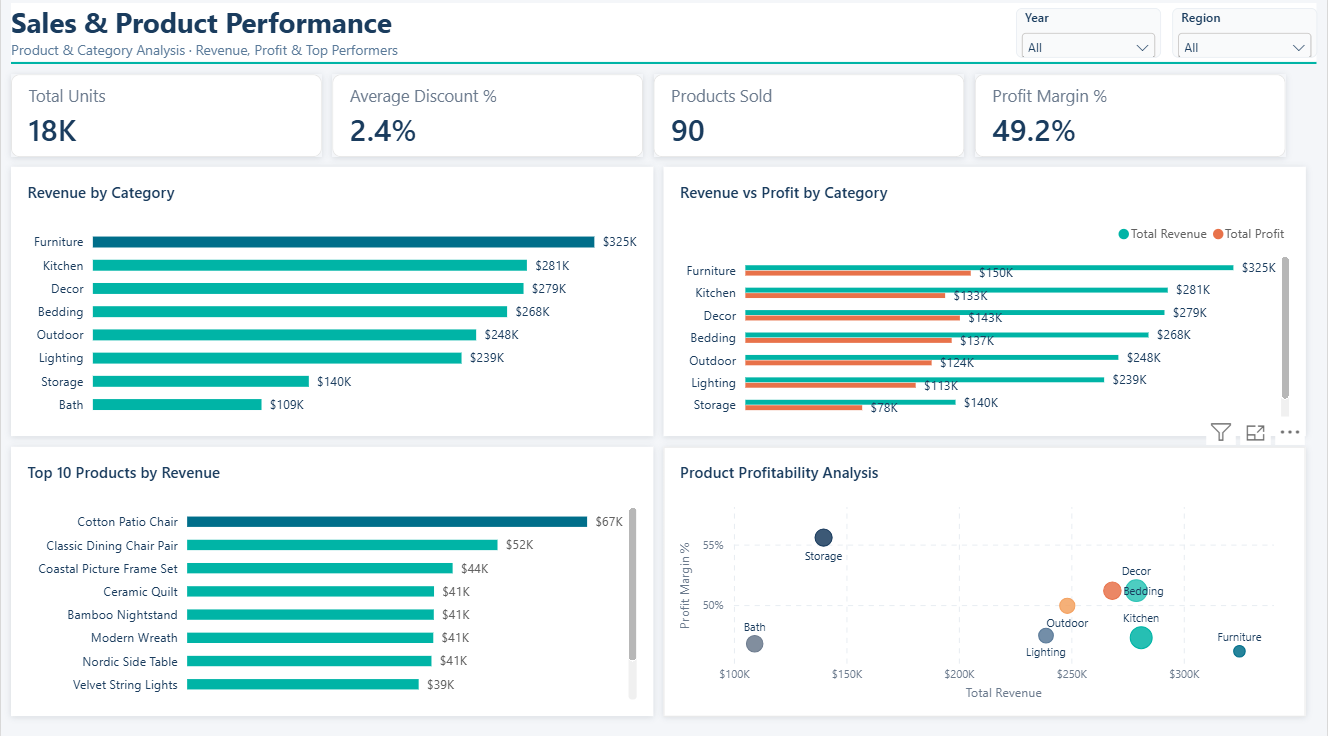

This screenshot's page, from the dashboard's own definition file:
{"tool":"powerbi","page":{"name":"Sales & Product Performance","canvas":[1280,720],"ordinal":1},"visuals":[{"type":"textbox","box":[10,10,1260,58],"z":0},{"type":"shape","box":[9.7,61.5,1260,12],"z":1000},{"type":"cardVisual","fields":{"Data":["_Measures.Total Units"]},"box":[10,78,300,80],"z":2000},{"type":"cardVisual","fields":{"Data":["_Measures.Average Discount %"]},"box":[320,78,300,80],"z":3000},{"type":"cardVisual","fields":{"Data":["_Measures.Products Sold"]},"box":[630,78,300,80],"z":4000},{"type":"cardVisual","fields":{"Data":["_Measures.Profit Margin %"]},"box":[940,78,300,80],"z":5000},{"type":"clusteredBarChart","title":"Revenue by Category","fields":{"Category":["FactSales.Category"],"Y":["_Measures.Total Revenue"]},"box":[10,168,620,260],"z":6000},{"type":"clusteredBarChart","title":"Revenue vs Profit by Category","fields":{"Category":["FactSales.Category"],"Y":["_Measures.Total Revenue","_Measures.Total Profit"]},"box":[640,168,620,260],"z":7000},{"type":"clusteredBarChart","title":"Top 10 Products by Revenue","fields":{"Category":["FactSales.ProductName"],"Y":["_Measures.Total Revenue"]},"box":[10,438,620,260],"z":8000},{"type":"scatterChart","title":"Product Profitability Analysis","fields":{"Category":["FactSales.Category"],"Size":["_Measures.Total Units"],"X":["_Measures.Total Revenue"],"Y":["_Measures.Profit Margin %"]},"box":[640,438,620,260],"z":9000},{"type":"slicer","fields":{"Values":["DimDate.Year"]},"box":[980,14,140,48],"z":10000},{"type":"slicer","fields":{"Values":["DimCustomer.Region"]},"box":[1130,14,140,48],"z":11000}]}

Visuals, with their boxes in screenshot pixels (x1, y1, x2, y2), scaled from the page's 1280x720 canvas onto the 1328x736 screenshot:
textbox: box=[10, 10, 1318, 70]
shape: box=[10, 63, 1317, 75]
cardVisual - _Measures.Total Units: box=[10, 80, 322, 162]
cardVisual - _Measures.Average Discount %: box=[332, 80, 643, 162]
cardVisual - _Measures.Products Sold: box=[654, 80, 965, 162]
cardVisual - _Measures.Profit Margin %: box=[975, 80, 1286, 162]
"Revenue by Category" clusteredBarChart: box=[10, 172, 654, 438]
"Revenue vs Profit by Category" clusteredBarChart: box=[664, 172, 1307, 438]
"Top 10 Products by Revenue" clusteredBarChart: box=[10, 448, 654, 714]
"Product Profitability Analysis" scatterChart: box=[664, 448, 1307, 714]
slicer - DimDate.Year: box=[1017, 14, 1162, 63]
slicer - DimCustomer.Region: box=[1172, 14, 1318, 63]
